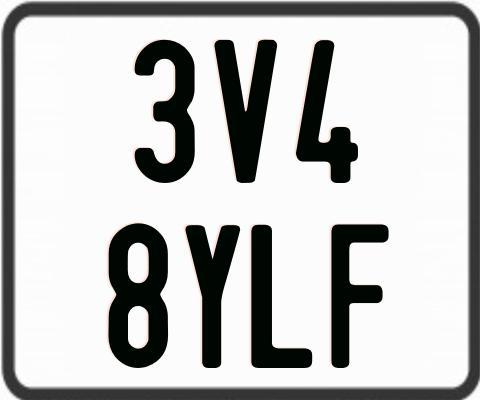3: (132, 40, 193, 185)
4: (296, 37, 363, 186)
8: (105, 223, 169, 370)
F: (330, 222, 393, 368)
L: (248, 224, 313, 370)
V: (214, 40, 281, 188)
Y: (182, 222, 239, 367)
